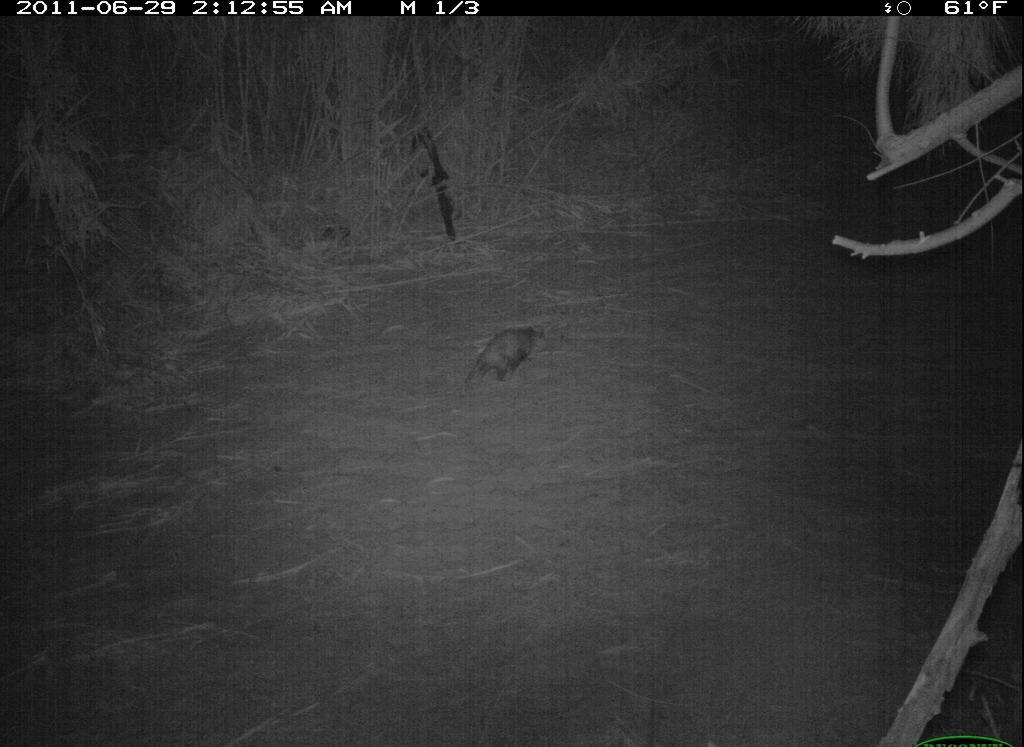opossum: (455, 314, 569, 396)
